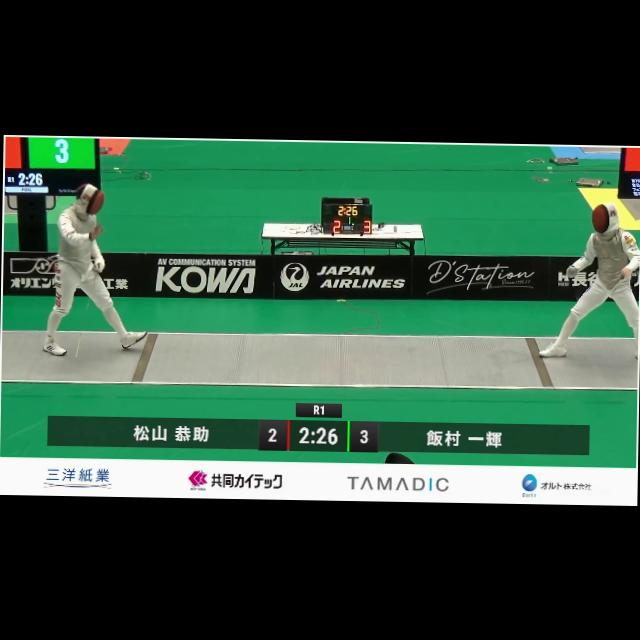blade: (68, 255, 104, 372)
